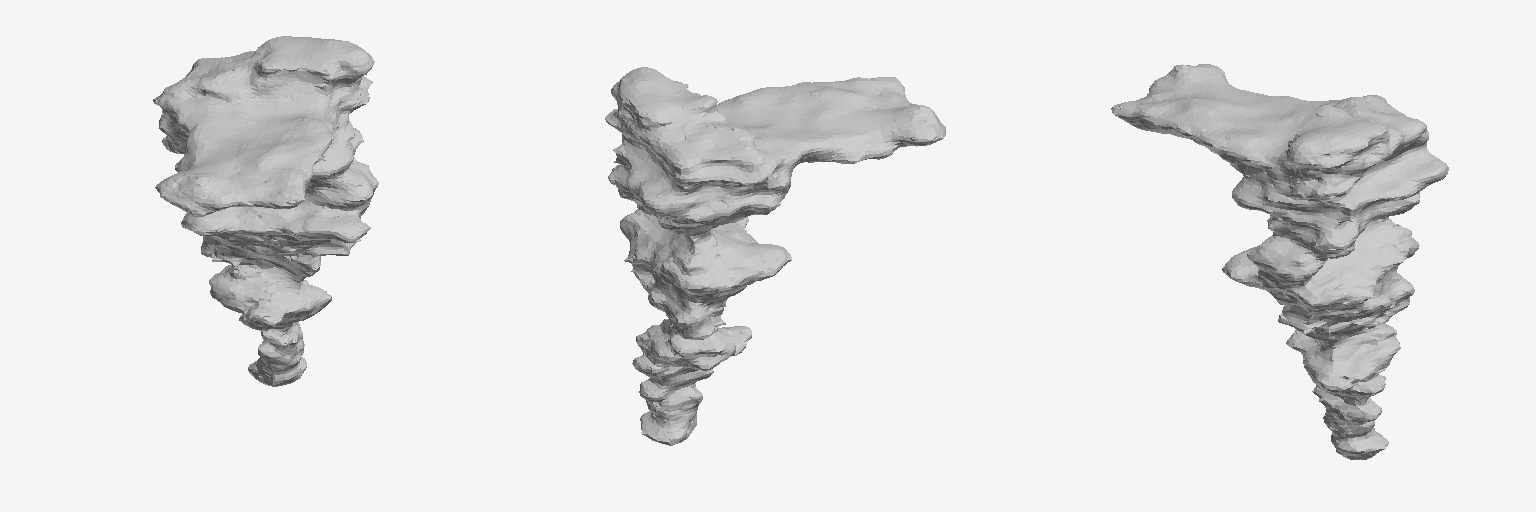
File: sister_rock_papertop.obj
3 renders of one model, left to right at view 1: azimuth 30°, elevation 25°; view 2: azimuth 150°, elevation 25°; view 3: azimuth 270°, elevation 25°, orthographic.
Parts seen in each view (by area): view 1: sister_rock_wall_based.001_Cube.005; view 2: sister_rock_wall_based.001_Cube.005; view 3: sister_rock_wall_based.001_Cube.005.
Part boxes in pixels (x1,y1,x2,y2): sister_rock_wall_based.001_Cube.005: (153, 36, 378, 386); sister_rock_wall_based.001_Cube.005: (605, 67, 945, 445); sister_rock_wall_based.001_Cube.005: (1111, 64, 1448, 459).
Size of the model in its own units: 1.3 by 1.55 by 1.4.